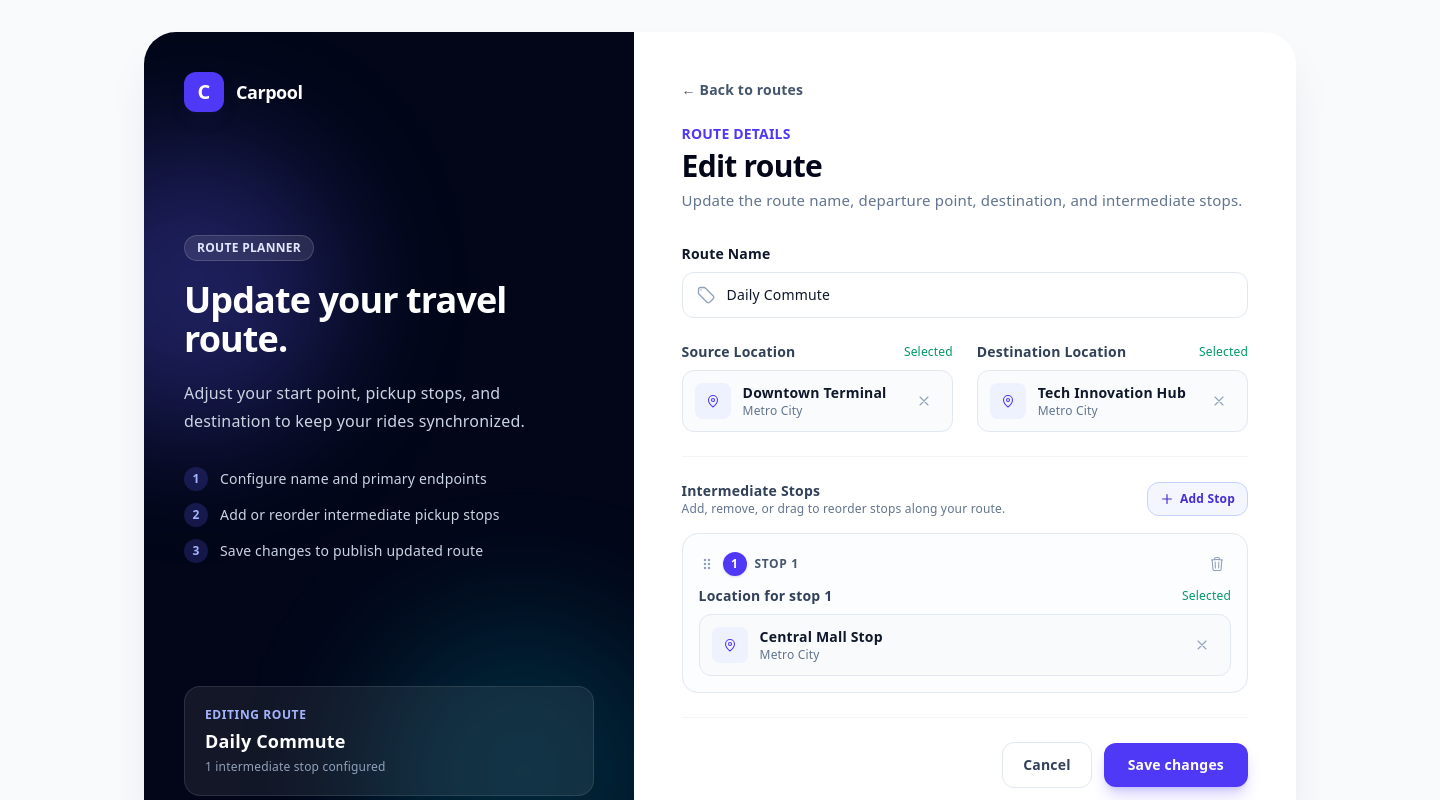
Test: EditRoutePage › handles backend API error gracefully
Step 1. Click the button "Save changes" → [1176, 765], box x1=1104 y1=743 x2=1248 y2=787
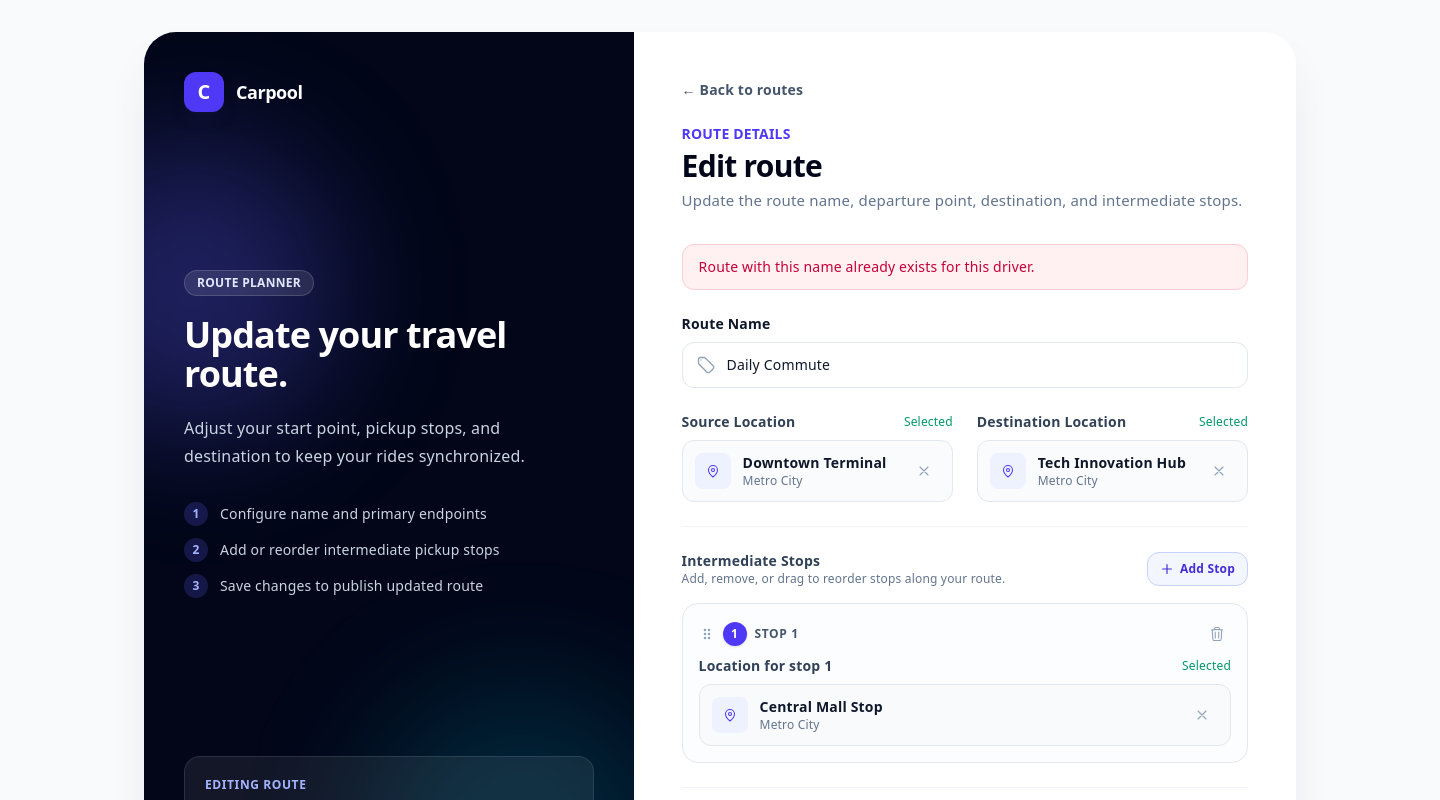
Result: the text "Route with this name already exists for this driver." is shown at x1=682 y1=244 x2=1248 y2=290
